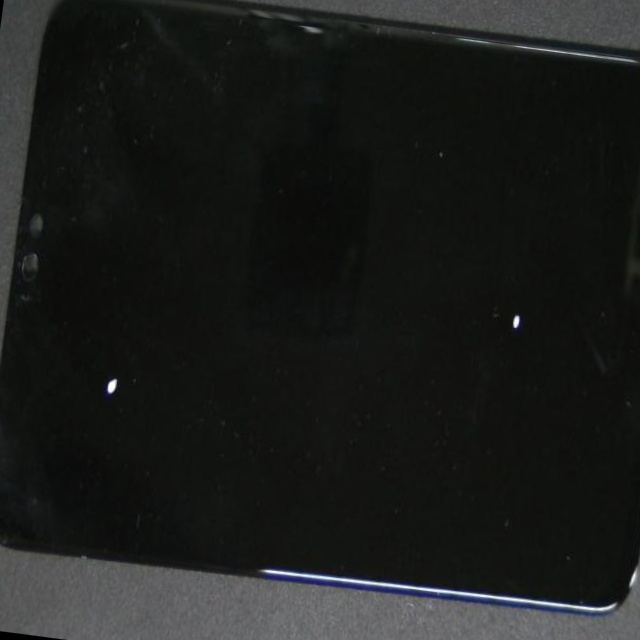stain: (235, 51, 640, 487), (0, 106, 210, 640)
